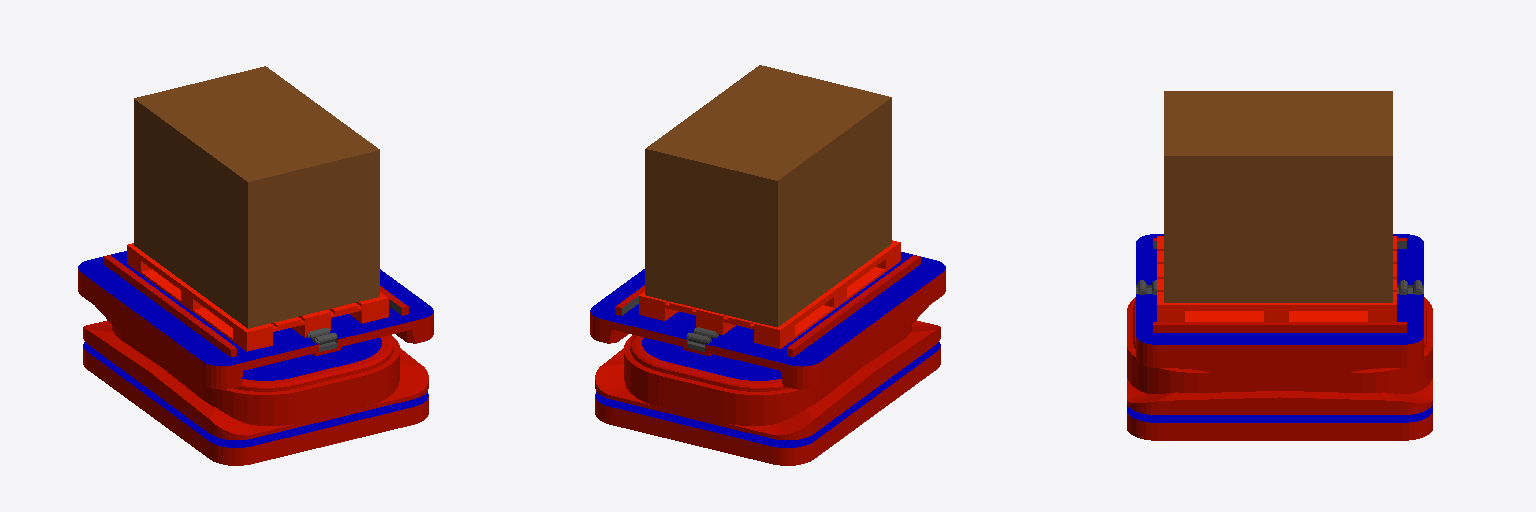
File: RobotCaixa.obj
3 renders of one model, left to right at view 1: azimuth 30°, elevation 25°; view 2: azimuth 150°, elevation 25°; view 3: azimuth 270°, elevation 25°, orthographic.
Visible parts, largest first — view 1: Plane.008; view 2: Plane.008; view 3: Plane.008.
Part boxes in pixels (left/top/right/bottom): Plane.008: left=78, top=66, right=433, bottom=465; Plane.008: left=590, top=65, right=945, bottom=465; Plane.008: left=1127, top=91, right=1432, bottom=440.
Bounding box in the file's own units: 1.29 × 1.43 × 1.5.